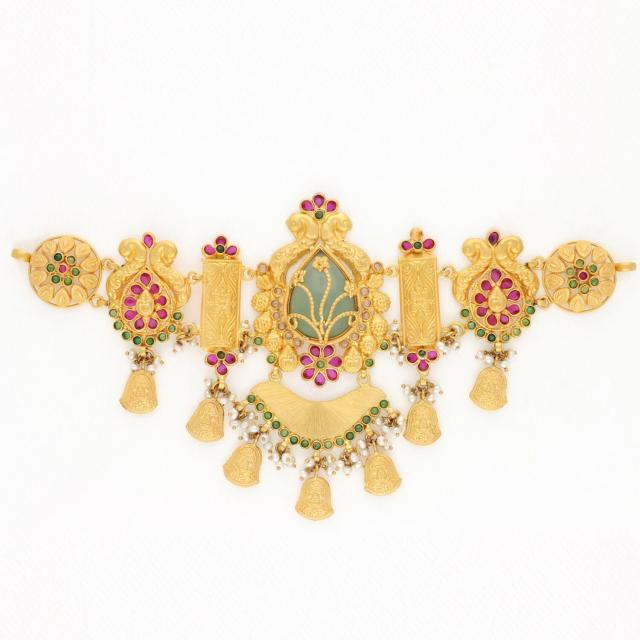missing gem: (411, 228, 422, 240)
